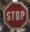Stop sign: (0, 0, 29, 31)
